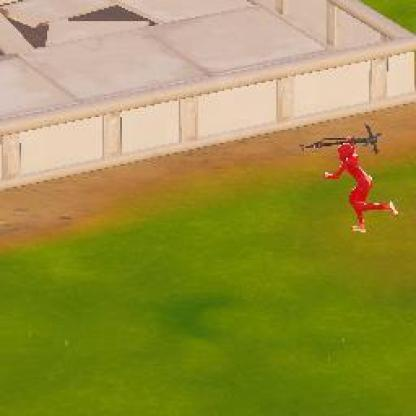dumpster: (322, 143, 401, 232)
